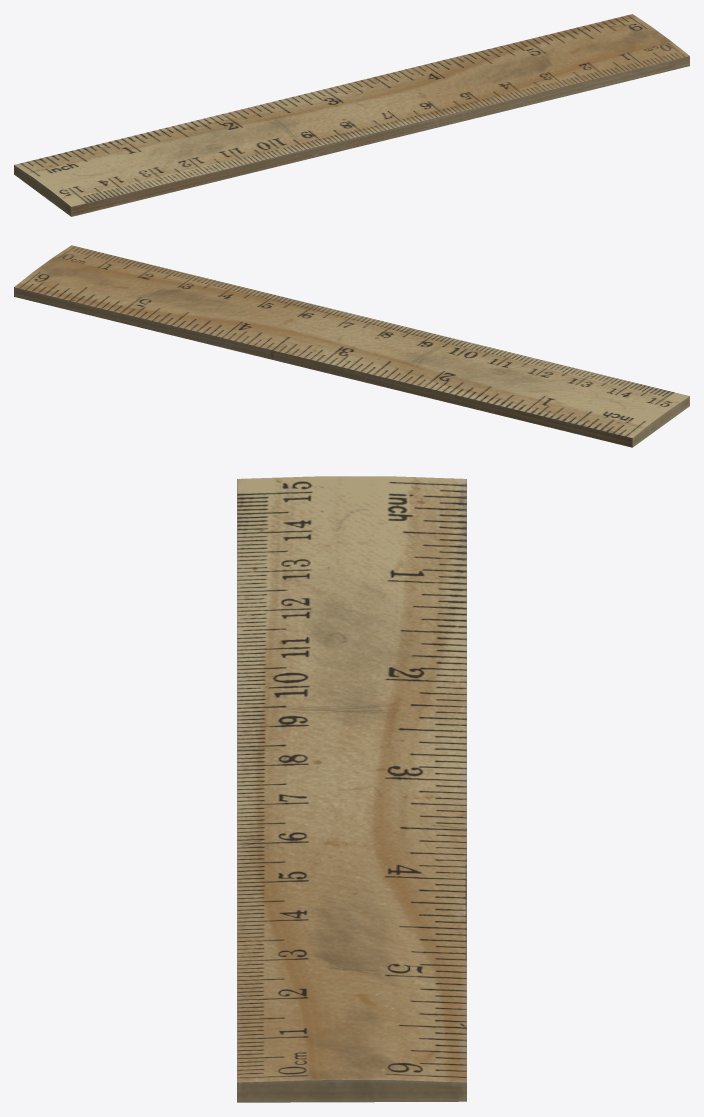
The picture shows the model from 3 angles, top to bottom: view 1: azimuth 30°, elevation 25°; view 2: azimuth 150°, elevation 25°; view 3: azimuth 270°, elevation 25°; orthographic projection. The views are drawn at different scales.
Parts seen in each view (by area): view 1: Ruler_Low; view 2: Ruler_Low; view 3: Ruler_Low.
Part boxes in pixels (x1,y1,x2,y2): Ruler_Low: (14,14,689,216); Ruler_Low: (14,245,689,447); Ruler_Low: (237,476,466,1102).
Bounding box in the file's own units: 0.1549 × 0.00272 × 0.0249.
Materials: 1 (1 with a texture image).
